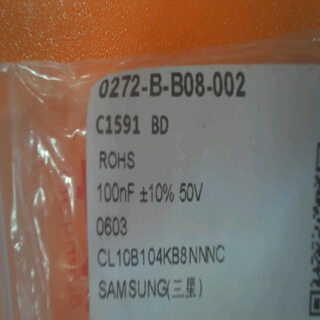100nF: (88, 179, 135, 206)
